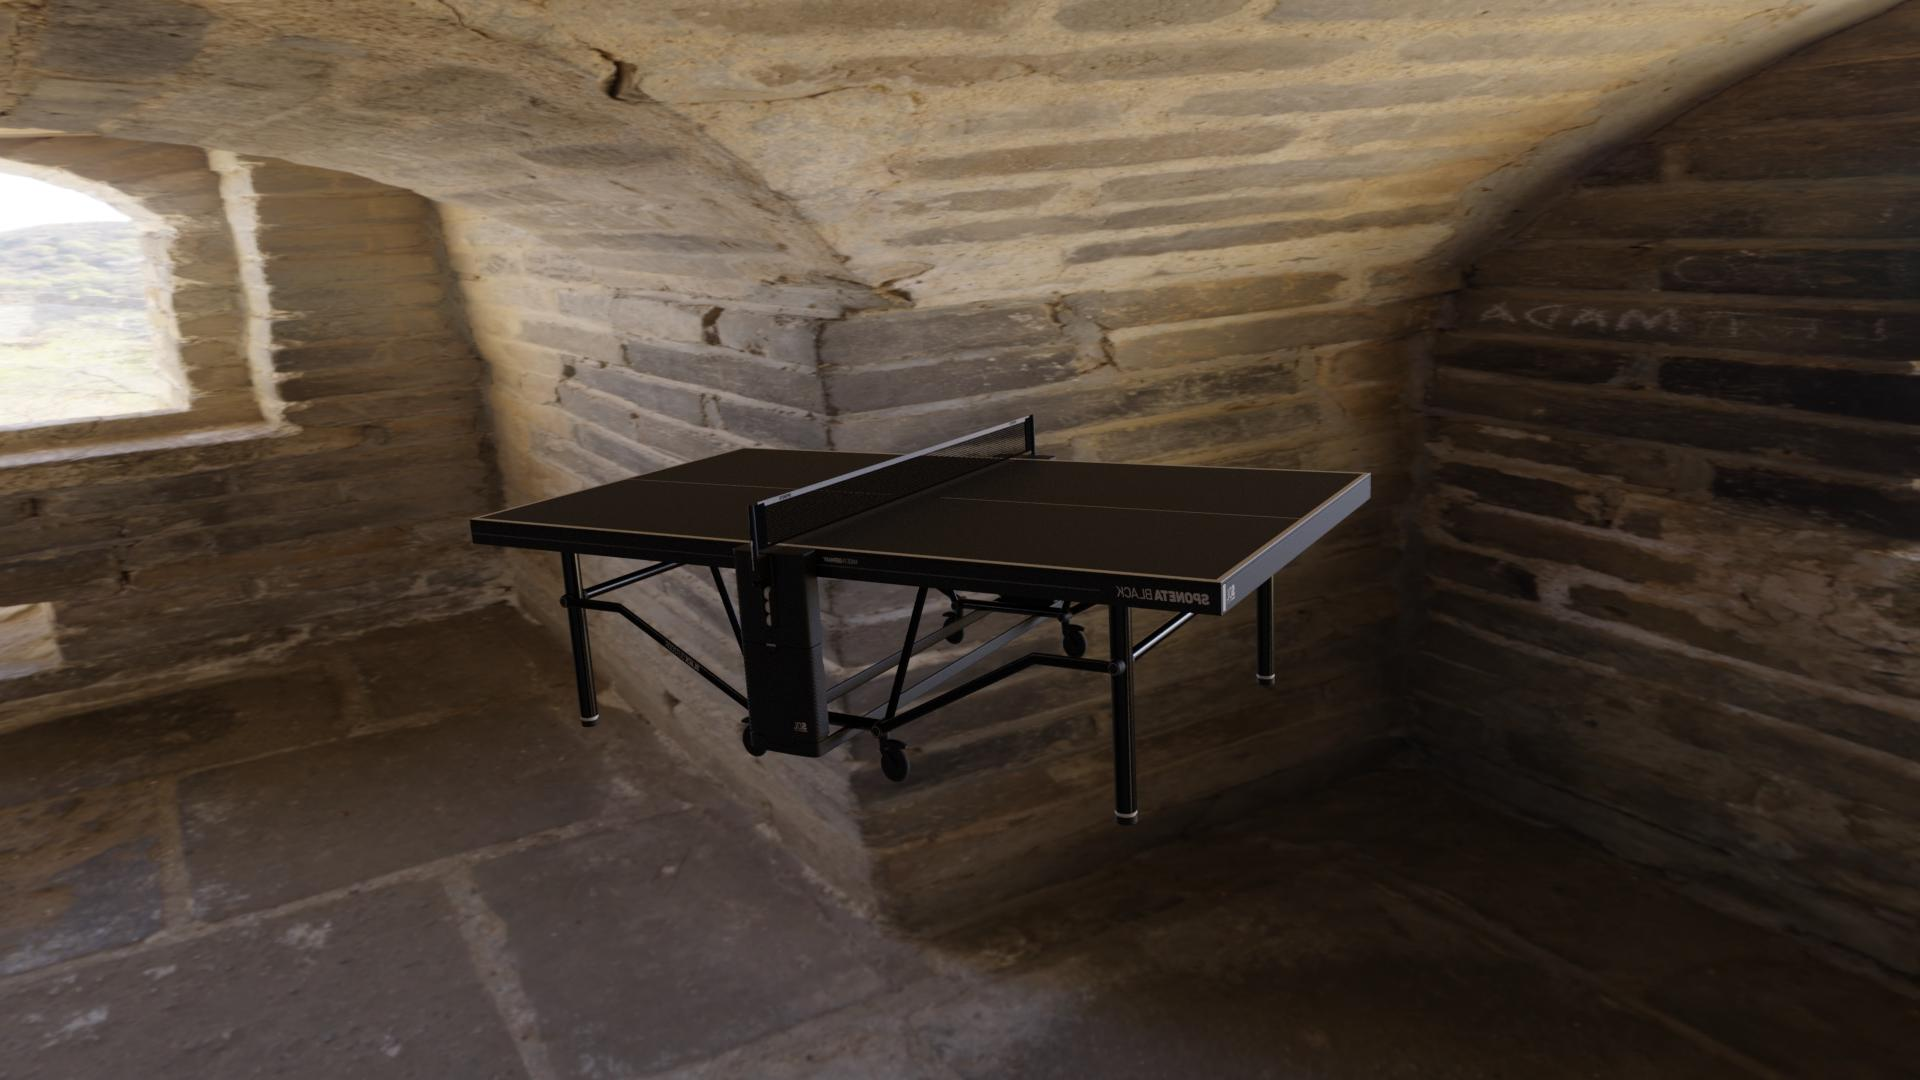table: (477, 448, 1364, 580)
